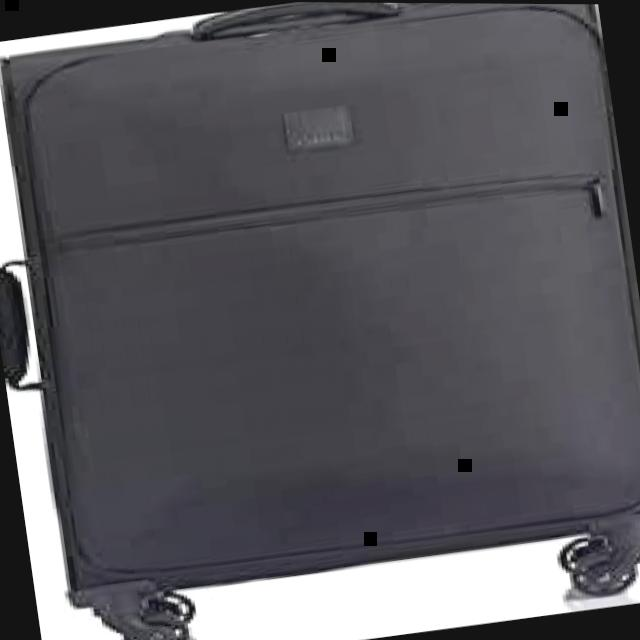luggage: (0, 0, 640, 620)
